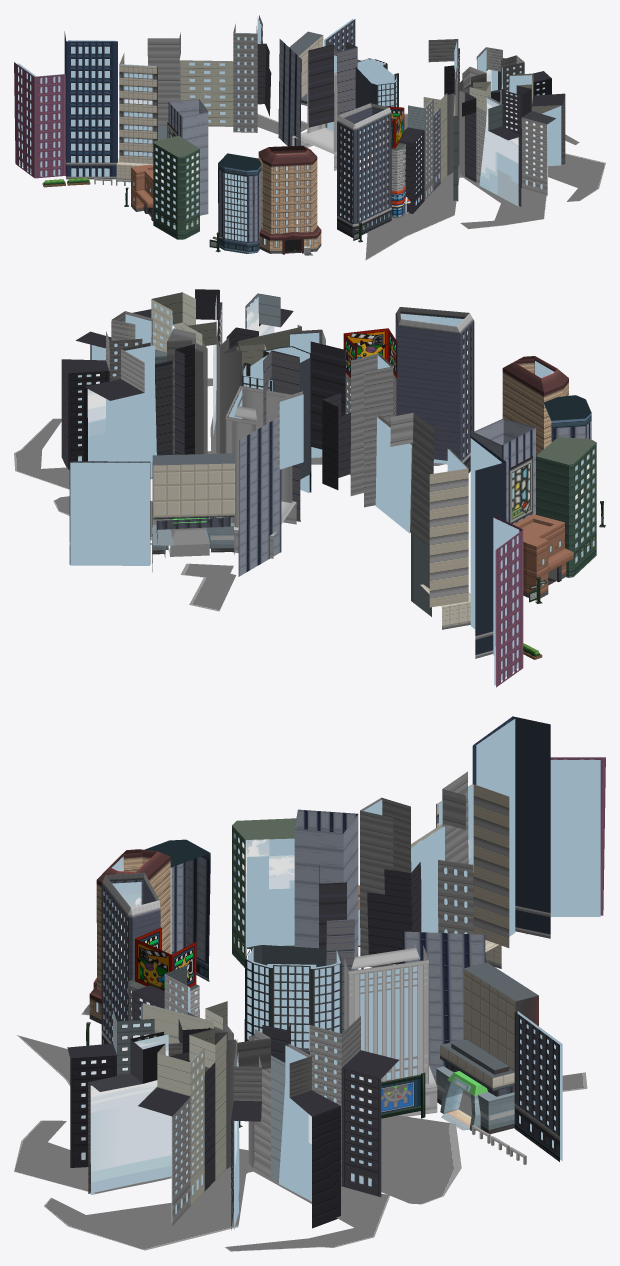
The picture shows the model from 3 angles, top to bottom: view 1: azimuth 30°, elevation 25°; view 2: azimuth 150°, elevation 25°; view 3: azimuth 270°, elevation 25°; orthographic projection. The views are drawn at different scales.
Parts seen in each view (by area): view 1: polygon5, polygon1, polygon8, polygon12, polygon6, polygon14, polygon13, polygon2, polygon16, polygon4, polygon15, polygon3 (+2 smaller); view 2: polygon1, polygon5, polygon6, polygon12, polygon8, polygon2, polygon13, polygon15, polygon9, polygon3, polygon14, polygon4 (+2 smaller); view 3: polygon5, polygon6, polygon12, polygon1, polygon14, polygon13, polygon2, polygon8, polygon16, polygon9, polygon3, polygon15 (+4 smaller).
Boxes of the visible parts, x1=… form: polygon5: x1=64, y1=31, x2=405, y2=250; polygon1: x1=14, y1=19, x2=398, y2=242; polygon8: x1=147, y1=15, x2=357, y2=140; polygon12: x1=413, y1=40, x2=565, y2=213; polygon6: x1=18, y1=16, x2=404, y2=247; polygon14: x1=257, y1=113, x2=605, y2=260; polygon13: x1=399, y1=39, x2=565, y2=213; polygon2: x1=65, y1=35, x2=391, y2=253; polygon16: x1=416, y1=69, x2=547, y2=206; polygon4: x1=131, y1=64, x2=410, y2=254; polygon15: x1=415, y1=41, x2=561, y2=205; polygon3: x1=167, y1=106, x2=406, y2=218; polygon1: x1=69, y1=313, x2=596, y2=687; polygon5: x1=238, y1=362, x2=591, y2=654; polygon6: x1=70, y1=316, x2=594, y2=685; polygon12: x1=68, y1=291, x2=322, y2=469; polygon8: x1=263, y1=341, x2=434, y2=616; polygon2: x1=69, y1=307, x2=596, y2=658; polygon13: x1=61, y1=289, x2=325, y2=468; polygon15: x1=78, y1=303, x2=322, y2=479; polygon9: x1=350, y1=353, x2=413, y2=507; polygon3: x1=152, y1=328, x2=532, y2=568; polygon14: x1=14, y1=378, x2=445, y2=611; polygon4: x1=152, y1=350, x2=568, y2=600; polygon5: x1=89, y1=716, x2=550, y2=1083; polygon6: x1=96, y1=719, x2=600, y2=1160; polygon12: x1=70, y1=974, x2=381, y2=1229; polygon1: x1=101, y1=757, x2=605, y2=1136; polygon14: x1=14, y1=1035, x2=587, y2=1251; polygon13: x1=67, y1=966, x2=398, y2=1228; polygon2: x1=101, y1=839, x2=559, y2=1161; polygon8: x1=319, y1=771, x2=473, y2=1032; polygon16: x1=81, y1=998, x2=371, y2=1204; polygon9: x1=319, y1=789, x2=465, y2=967; polygon3: x1=135, y1=927, x2=514, y2=1130; polygon15: x1=169, y1=980, x2=371, y2=1229.
Bounding box in the file's own units: 10.61 × 3.39 × 7.82.
